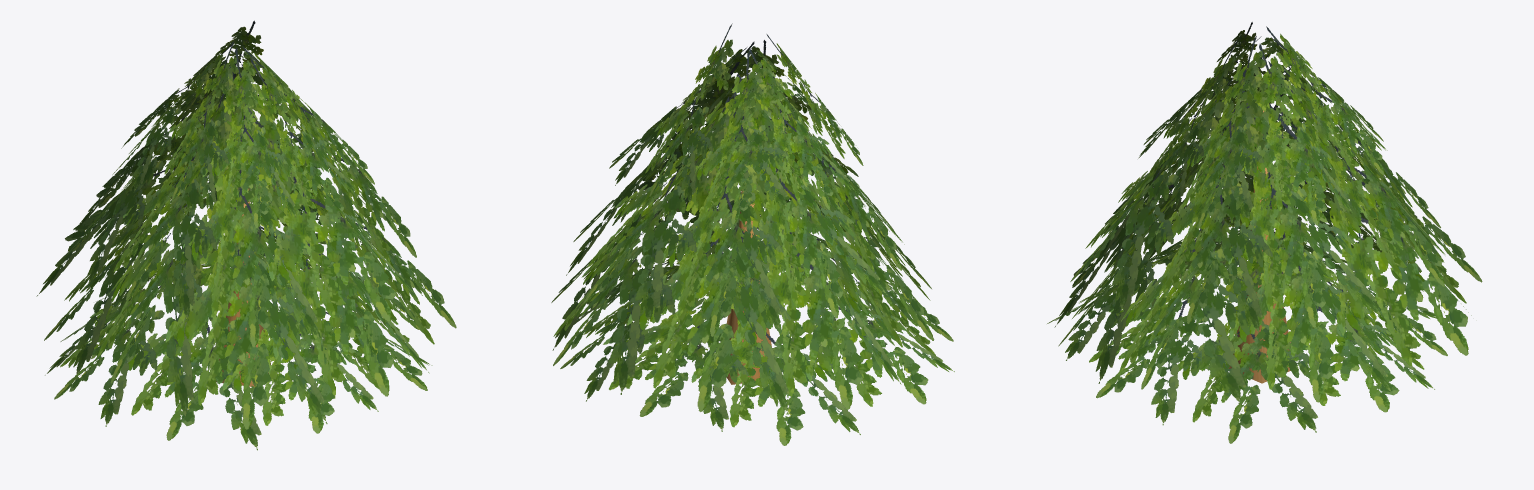
File: Cespuglio3.glb
3 renders of one model, left to right at view 1: azimuth 30°, elevation 25°; view 2: azimuth 150°, elevation 25°; view 3: azimuth 270°, elevation 25°, orthographic.
Visible parts, largest first — view 1: Cespuglio_03; view 2: Cespuglio_03; view 3: Cespuglio_03.
Part boxes in pixels (<box>): Cespuglio_03: <box>36,20,456,450</box>; Cespuglio_03: <box>551,23,954,445</box>; Cespuglio_03: <box>1047,22,1482,443</box>.
Bounding box in the file's own units: 3.22 × 2.7 × 3.35.
Materials: 1 (1 with a texture image).
